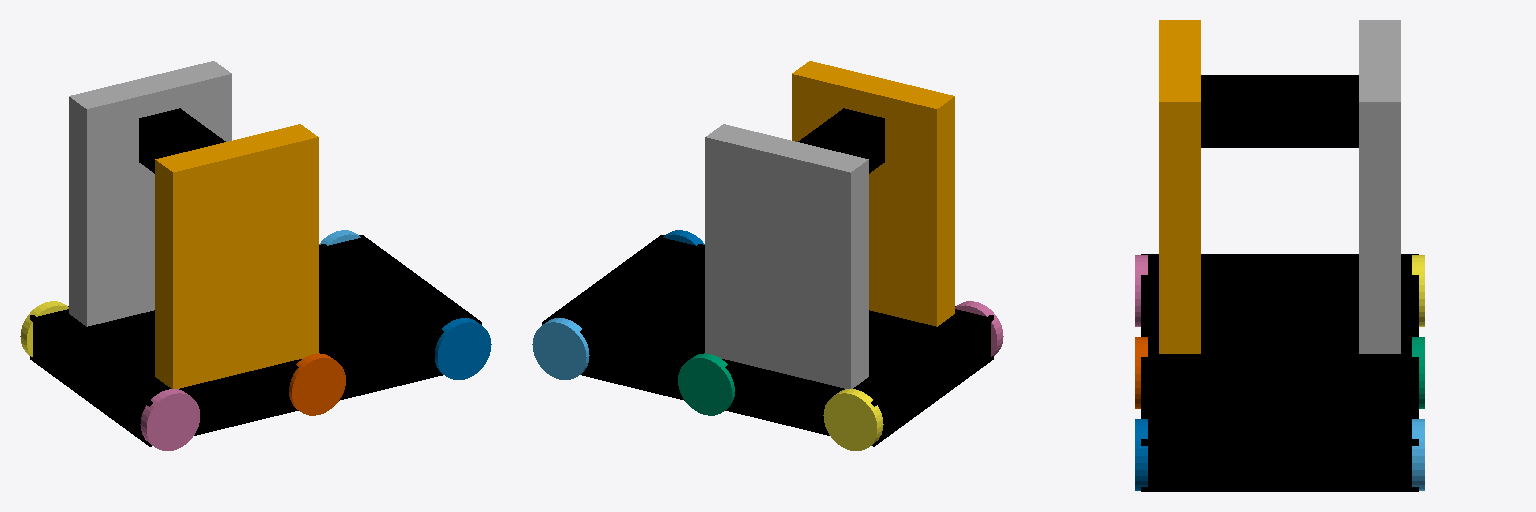
URDF robot description (myfirst):
<?xml version="1.0"?>
<robot name="myfirst" xmlns:xacro="http://www.ros.org/wiki/xacro">




  <link name="base_link">
    <visual>
      <geometry>
        <box size="1.6 1.0 0.2"/>
      </geometry>
      <material name="metal">
        <color rgba="0 0 0 1.0"/>
      </material>
    </visual>
    <collision>
      <geometry>
        <box size="1.6 1.0 0.2"/>
      </geometry>
    </collision>
    <inertial>
      <mass value="3"/>
      <inertia ixx="0.0" ixy="0.0" ixz="0.0" izz="0.0" iyy="0.0" iyz="0.0" />
    </inertial>
  </link>

  <!-- left chassis side -->

  <joint name="left_front_wheel_to_body" type="fixed">
    <parent link="base_link"/>
    <child link="left_front_wheel"/>
    <origin xyz="0.7 0 0" rpy="0 0 0"/>
    <axis xyz="0 1 0"/>
  </joint>

  <link name="left_front_wheel">
    <visual>
      <geometry>
        <cylinder length="0.05" radius="0.13"/>
      </geometry>
      <origin rpy="1.57 1.57 0" xyz="0  0.5 0"/>
    </visual>
    <collision>
      <geometry>
        <cylinder length="0.05" radius="0.13"/>
      </geometry>
      <origin rpy="1.57 1.57 0" xyz="0  0.5 0"/>
    </collision>
    <inertial>
      <mass value="0.1"/>
      <inertia ixx="0.0" ixy="0.0" ixz="0.0" izz="0.0" iyy="0.0" iyz="0.0" />
    </inertial>
  </link>

  <joint name="left_center_wheel_to_body" type="continuous">
    <parent link="base_link"/>
    <child link="left_center_wheel"/>
    <origin xyz="0 0 0" rpy="0 0 0"/>
    <axis xyz="0 0 0"/>
</joint>

  <link name="left_center_wheel">
    <visual>
      <geometry>
        <cylinder length="0.05" radius="0.13"/>
      </geometry>
      <origin rpy="1.57 1.57 0" xyz="0 0.5 0"/>
    </visual>
    <collision>
      <geometry>
        <cylinder length="0.05" radius="0.13"/>
      </geometry>
      <origin rpy="1.57 1.57 0" xyz="0 0.5 0"/>
    </collision>
    <inertial>
      <mass value="0.1"/>
      <inertia ixx="0.0" ixy="0.0" ixz="0.0" izz="0.0" iyy="0.0" iyz="0.0" />
    </inertial>
  </link>

  <joint name="left_back_wheel_to_body" type="fixed">
    <parent link="base_link"/>
    <child link="left_back_wheel"/>
    <origin xyz="-0.7 0 0" rpy="0 0 0"/>
    <axis xyz="0 1 0"/>
  </joint>

  <link name="left_back_wheel">
    <visual>
      <geometry>
        <cylinder length="0.05" radius="0.13"/>
      </geometry>
      <origin rpy="1.57 1.57 0" xyz="0 0.5 0"/>
    </visual>
    <collision>
      <geometry>
        <cylinder length="0.05" radius="0.13"/>
      </geometry>
      <origin rpy="1.57 1.57 0" xyz="0 0.5 0"/>
    </collision>
    <inertial>
      <mass value="0.1"/>
      <inertia ixx="0.0" ixy="0.0" ixz="0.0" izz="0.0" iyy="0.0" iyz="0.0" />
    </inertial>
  </link>

    <!-- right chassis side -->

    <joint name="right_front_wheel_to_body" type="fixed">
      <parent link="base_link"/>
      <child link="right_front_wheel"/>
      <origin xyz="0.7 0 0" rpy="0 0 0"/>
      <axis xyz="0 1 0"/>
  </joint>

    <link name="right_front_wheel">
      <visual>
        <geometry>
          <cylinder length="0.05" radius="0.13"/>
        </geometry>
        <origin rpy="1.57 1.57 0" xyz="0 -0.5 0"/>
      </visual>
      <collision>
        <geometry>
          <cylinder length="0.05" radius="0.13"/>
        </geometry>
        <origin rpy="1.57 1.57 0" xyz="0 -0.5 0"/>
      </collision>
      <inertial>
        <mass value="0.1"/>
        <inertia ixx="0.0" ixy="0.0" ixz="0.0" izz="0.0" iyy="0.0" iyz="0.0" />
      </inertial>
    </link>

    <joint name="right_center_wheel_to_body" type="continuous">
      <parent link="base_link"/>
      <child link="right_center_wheel"/>
      <origin xyz="0 0 0" rpy="0 0 0"/>
      <axis xyz="0 0 0"/>
  </joint>

    <link name="right_center_wheel">
      <visual>
        <geometry>
          <cylinder length="0.05" radius="0.13"/>
        </geometry>
        <origin rpy="1.57 1.57 0" xyz="0 -0.5 0"/>
      </visual>
      <collision>
        <geometry>
          <cylinder length="0.05" radius="0.13"/>
        </geometry>
        <origin rpy="1.57 1.57 0" xyz="0 -0.5 0"/>
      </collision>
      <inertial>
        <mass value="0.1"/>
        <inertia ixx="0.0" ixy="0.0" ixz="0.0" izz="0.0" iyy="0.0" iyz="0.0" />
      </inertial>
    </link>

    <joint name="right_back_wheel_to_body" type="fixed">
      <parent link="base_link"/>
      <child link="right_back_wheel"/>
      <origin xyz="-0.7 0 0" rpy="0 0 0"/>
      <axis xyz="0 1 0"/>
    </joint>

    <link name="right_back_wheel">
      <visual>
        <geometry>
          <cylinder length="0.05" radius="0.13"/>
        </geometry>
        <origin rpy="1.57 1.57 0" xyz="0  -0.5 0"/>
      </visual>
      <collision>
        <geometry>
          <cylinder length="0.05" radius="0.13"/>
        </geometry>
        <origin rpy="1.57 1.57 0" xyz="0  -0.5 0"/>
      </collision>
      <inertial>
        <mass value="0.1"/>
        <inertia ixx="0.0" ixy="0.0" ixz="0.0" izz="0.0" iyy="0.0" iyz="0.0" />
      </inertial>
    </link>



    <!-- left robot wall -->

    <link name="left_wall">
      <visual>
        <geometry>
          <box size="0.7 0.15 1.0"/>
        </geometry>
      </visual>
      <collision>
        <geometry>
          <box size="0.7 0.15 1.0"/>
        </geometry>
      </collision>
      <inertial>
        <mass value="0"/>
        <inertia ixx="0.0" ixy="0.0" ixz="0.0" izz="0.0" iyy="0.0" iyz="0.0" />
      </inertial>
    </link>

    <joint name="left_wall_to_body" type="fixed">
      <parent link="base_link"/>
      <child link="left_wall"/>
      <origin xyz="-0.3 0.36 0.6" rpy="0 0 0"/>
    </joint>


    <!-- right wall -->
    <link name="right_wall">
      <visual>
        <geometry>
          <box size="0.7 0.15 1.0"/>
        </geometry>
      </visual>
      <collision>
        <geometry>
          <box size="0.7 0.15 1.0"/>
        </geometry>
      </collision>
      <inertial>
        <mass value="0"/>
        <inertia ixx="0.0" ixy="0.0" ixz="0.0" izz="0.0" iyy="0.0" iyz="0.0" />
      </inertial>
    </link>

    <joint name="right_wall_to_body" type="fixed">
      <parent link="base_link"/>
      <child link="right_wall"/>
      <origin xyz="-0.3 -0.36 0.6" rpy="0 0 0"/>
    </joint>


    <!-- center shit -->

    <link name="center_shit">
      <visual>
        <geometry>
          <box size="0.2 0.7 0.2"/>
        </geometry>
        <material name="metal">
          <color rgba="0 0 0 1.0"/>
        </material>
      </visual>
      <collision>
        <geometry>
          <box size="0.2 0.7 0.2"/>
        </geometry>
      </collision>
      <inertial>
        <mass value="0"/>
        <inertia ixx="0.0" ixy="0.0" ixz="0.0" izz="0.0" iyy="0.0" iyz="0.0" />
      </inertial>
    </link>

    <joint name="center_shit_to_left_wall" type="fixed">
      <parent link="left_wall"/>
      <child link="center_shit"/>
      <origin xyz="0 -0.35 0.3" rpy="0 0 0"/>
    </joint>

    <!-- <link name="MAKBILIT">
      <visual>
        <origin xyz="0.75 0 0" rpy="0 0 0" />
        <geometry>
          <box size="1.5 0.15 0.15"/>
        </geometry>
      </visual>
      <collision>
        <geometry>
          <box size="1.5 0.15 0.15"/>
        </geometry>
      </collision>
      <inertial>
        <mass value="0"/>
        <inertia ixx="0.0" ixy="0.0" ixz="0.0" izz="0.0" iyy="0.0" iyz="0.0" />
      </inertial>
    </link>

    <joint name="MAKBILIT_to_body" type="revolute">
      <limit effort="1000.0" lower="-0.55" upper="0.55" velocity="0.5"/>
      <parent link="left_wall"/>
      <child link="MAKBILIT"/>
      <origin xyz="0 -0.35 0.3" rpy="0 0 0"/>
      <axis xyz="0 1 0"/>
    </joint>



 <link name="gripper">
      <visual>
        <origin xyz="0.25 0 0" rpy="0 0 0" />
        <geometry>
          <box size="0.5 0.4 0.2"/>
        </geometry>
        <material name="metal">
          <color rgba="0 0 0 1"/>
        </material>
      </visual>
      <collision>
        <geometry>
          <box size="1.5 0.15 0.15"/>
        </geometry>
      </collision>
      <inertial>
        <mass value="0"/>
        <inertia ixx="0.0" ixy="0.0" ixz="0.0" izz="0.0" iyy="0.0" iyz="0.0" />
      </inertial>
    </link>

    <joint name="gripper_to_MAKBILIT" type="revolute">
      <limit effort="1000.0" lower="-0.55" upper="0.55" velocity="0.5"/>
      <parent link="MAKBILIT"/>
      <child link="gripper"/>
      <origin xyz="1.5 0 0" rpy="0 0 0"/>
      <axis xyz="0 1 0"/>
    </joint> -->




 <!-- gazebo plugins -->
 <gazebo reference="base_link">
   <mu1>0.3</mu1>
   <mu2>0.3</mu2>
   <material>Gazebo/White</material>
 </gazebo>

 <gazebo reference="left_front_wheel_to_body">
   <mu1>0.0</mu1>
   <mu2>0.0</mu2>
   <kp>1000000.0</kp>
   <kd>100.0</kd>
   <minDepth>0.001</minDepth>
   <maxVel>1.0</maxVel>
   <material>Gazebo/Black</material>
 </gazebo>

 <gazebo reference="left_center_wheel_to_body">
   <mu1>0.1</mu1>
   <mu2>0.1</mu2>
   <kp>1000000.0</kp>
   <kd>100.0</kd>
   <minDepth>0.001</minDepth>
   <maxVel>1.0</maxVel>
   <material>Gazebo/Black</material>
 </gazebo>

 <gazebo reference="left_front_wheel_to_body">
   <mu1>0.0</mu1>
   <mu2>0.0</mu2>
   <kp>1000000.0</kp>
   <kd>100.0</kd>
   <minDepth>0.001</minDepth>
   <maxVel>1.0</maxVel>
   <material>Gazebo/Black</material>
 </gazebo>

 <gazebo reference="right_front_wheel_to_body">
   <mu1>0.0</mu1>
   <mu2>0.0</mu2>
   <kp>1000000.0</kp>
   <kd>100.0</kd>
   <minDepth>0.001</minDepth>
   <maxVel>1.0</maxVel>
   <material>Gazebo/Black</material>
 </gazebo>

 <gazebo reference="right_center_wheel_to_body">
   <mu1>0.1</mu1>
   <mu2>0.1</mu2>
   <kp>1000000.0</kp>
   <kd>100.0</kd>
   <minDepth>0.001</minDepth>
   <maxVel>1.0</maxVel>
   <material>Gazebo/Black</material>
 </gazebo>

 <gazebo reference="right_front_wheel_to_body">
   <mu1>0.0</mu1>
   <mu2>0.0</mu2>
   <kp>1000000.0</kp>
   <kd>100.0</kd>
   <minDepth>0.001</minDepth>
   <maxVel>1.0</maxVel>
   <material>Gazebo/Black</material>
 </gazebo>

 <gazebo reference="front_caster">
   <mu1>0.0</mu1>
   <mu2>0.0</mu2>
   <kp>1000000.0</kp>
   <kd>100.0</kd>
   <minDepth>0.001</minDepth>
   <maxVel>1.0</maxVel>
   <material>Gazebo/Blue</material>
 </gazebo>

 <gazebo reference="rear_caster">
   <mu1>0.0</mu1>
   <mu2>0.0</mu2>
   <kp>1000000.0</kp>
   <kd>100.0</kd>
   <minDepth>0.001</minDepth>
   <maxVel>1.0</maxVel>
   <material>Gazebo/Blue</material>
 </gazebo>

 <gazebo>
   <plugin name="differential_drive_controller" filename="libgazebo_ros_diff_drive.so">
     <legacyMode>false</legacyMode>
     <publishTf>1</publishTf>
     <publishWheelTF>true</publishWheelTF>
     <publishWheelJointState>true</publishWheelJointState>
     <alwaysOn>true</alwaysOn>
     <updateRate>20</updateRate>
     <leftJoint>left_center_wheel_to_body</leftJoint>
     <rightJoint>right_center_wheel_to_body</rightJoint>
     <wheelSeparation>0.232</wheelSeparation>
     <wheelDiameter>0.35</wheelDiameter>
     <wheelTorque>100</wheelTorque>
     <wheelAcceleration>1</wheelAcceleration>
     <commandTopic>/cmd_vel</commandTopic>
     <odometryTopic>odom</odometryTopic>
     <odometryFrame>odom</odometryFrame>
     <robotBaseFrame>base_link</robotBaseFrame>
   </plugin>

 </gazebo>

</robot>

--- Facts derived from the render (not from the file) ---
3 views of the same robot in one strip: view 1: azimuth 30°, elevation 25°; view 2: azimuth 150°, elevation 25°; view 3: azimuth 270°, elevation 25° (orthographic).
Model myfirst with 10 links and 9 joints (2 continuous, 7 fixed), rooted at base_link, posed every joint at zero.
Links seen in each view (by area): view 1: right_wall, base_link, left_wall, center_shit, right_back_wheel, right_center_wheel, right_front_wheel, left_back_wheel; view 2: left_wall, base_link, right_wall, center_shit, left_back_wheel, left_center_wheel, left_front_wheel, right_back_wheel; view 3: base_link, left_wall, right_wall, center_shit, left_front_wheel, right_front_wheel, left_center_wheel, left_back_wheel, right_center_wheel, right_back_wheel.
Boxes of the visible links, bbox=[...] form: right_wall: bbox=[155, 124, 318, 388]; base_link: bbox=[30, 235, 481, 446]; left_wall: bbox=[69, 61, 231, 326]; center_shit: bbox=[139, 108, 225, 173]; right_back_wheel: bbox=[140, 389, 199, 450]; right_center_wheel: bbox=[289, 353, 345, 415]; right_front_wheel: bbox=[435, 318, 491, 379]; left_back_wheel: bbox=[20, 301, 68, 356]; left_wall: bbox=[705, 124, 868, 388]; base_link: bbox=[542, 235, 993, 446]; right_wall: bbox=[792, 61, 954, 326]; center_shit: bbox=[798, 108, 884, 173]; left_back_wheel: bbox=[823, 389, 883, 450]; left_center_wheel: bbox=[678, 353, 734, 415]; left_front_wheel: bbox=[532, 318, 589, 379]; right_back_wheel: bbox=[955, 301, 1003, 356]; base_link: bbox=[1141, 254, 1418, 491]; left_wall: bbox=[1359, 20, 1400, 353]; right_wall: bbox=[1159, 20, 1200, 353]; center_shit: bbox=[1201, 75, 1358, 147]; left_front_wheel: bbox=[1412, 419, 1424, 490]; right_front_wheel: bbox=[1135, 419, 1147, 490]; left_center_wheel: bbox=[1412, 337, 1424, 408]; left_back_wheel: bbox=[1412, 255, 1424, 326]; right_center_wheel: bbox=[1135, 337, 1147, 408]; right_back_wheel: bbox=[1135, 255, 1147, 326].
Size in the robot's own frame: 1.66 by 1.05 by 1.23 metres.
Geometry: primitives only (box / cylinder / sphere), no mesh files.
